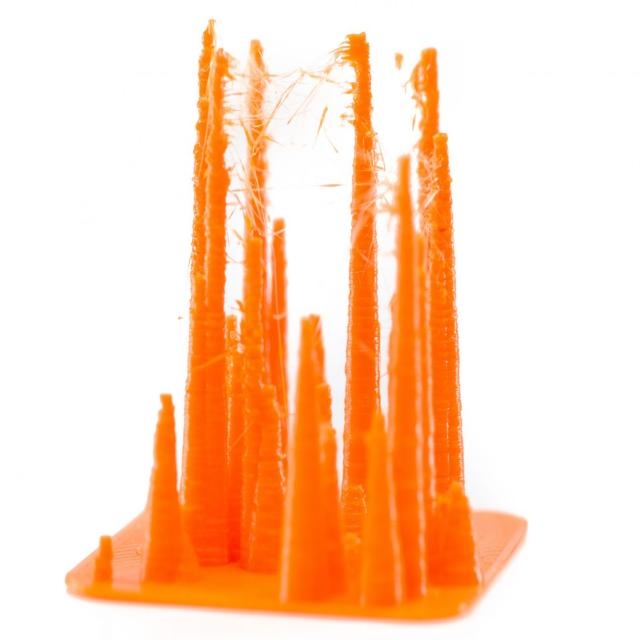Stringing: (223, 67, 327, 242), (410, 140, 440, 240), (323, 34, 349, 104)
